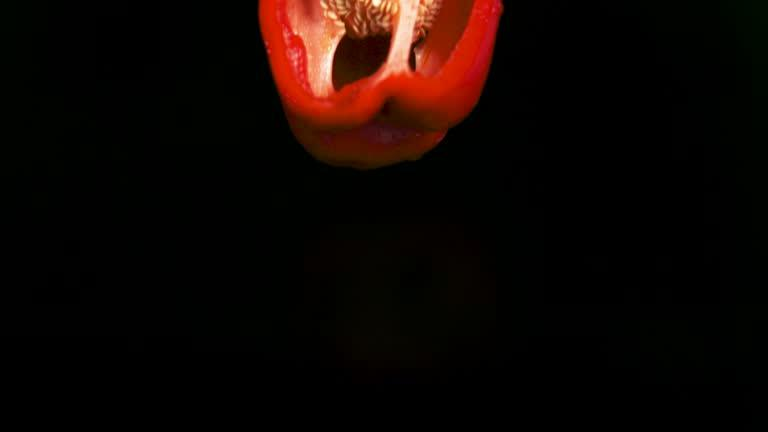Capsicum: (254, 0, 512, 168)
